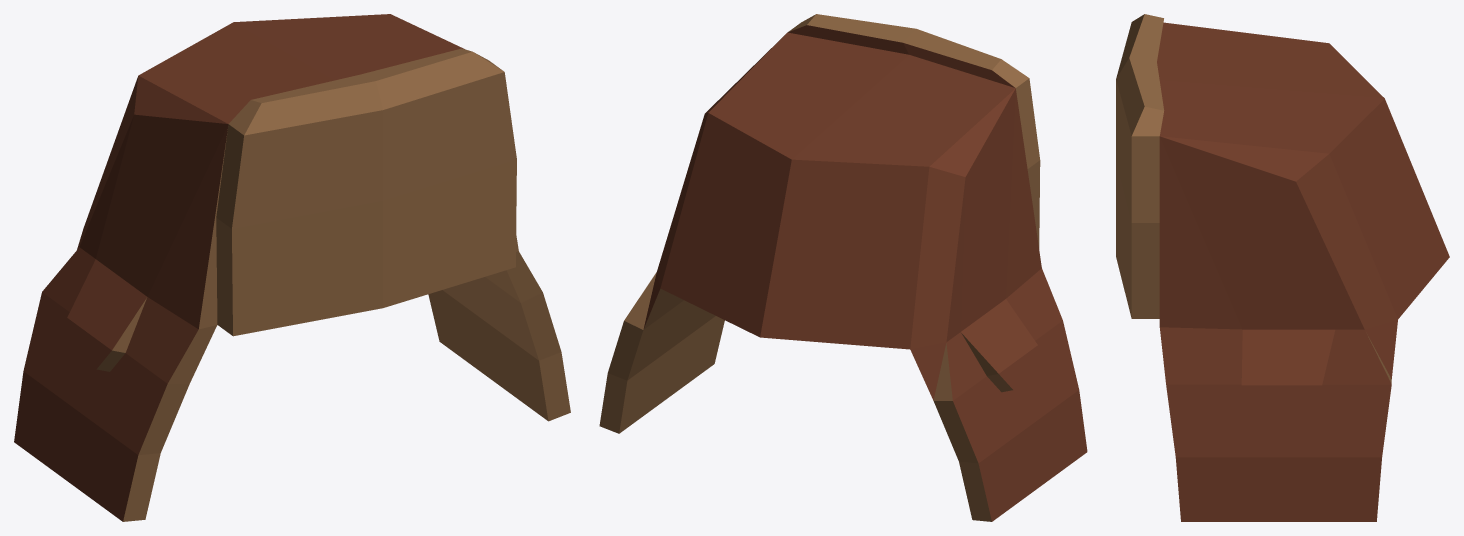
Rendered from RussianHat.fbx.
3 renders of one model, left to right at view 1: azimuth 30°, elevation 25°; view 2: azimuth 150°, elevation 25°; view 3: azimuth 270°, elevation 25°, orthographic. The views are drawn at different scales.
Parts seen in each view (by area): view 1: RussianHat; view 2: RussianHat; view 3: RussianHat.
Boxes of the visible parts, x1,y1,x2,y2 form: RussianHat: [14, 14, 570, 521]; RussianHat: [599, 14, 1087, 521]; RussianHat: [1116, 14, 1449, 521].
Size of the model in its own units: 105 by 91.58 by 75.12.
